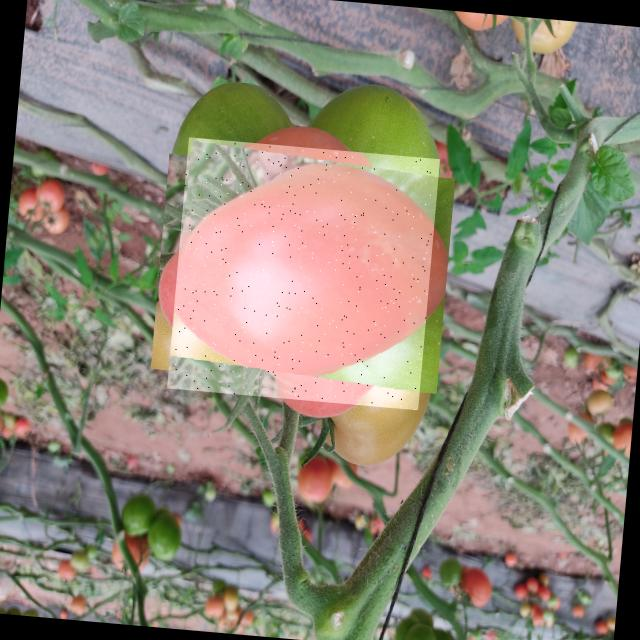Ripe Tomato: (166, 137, 440, 410)
